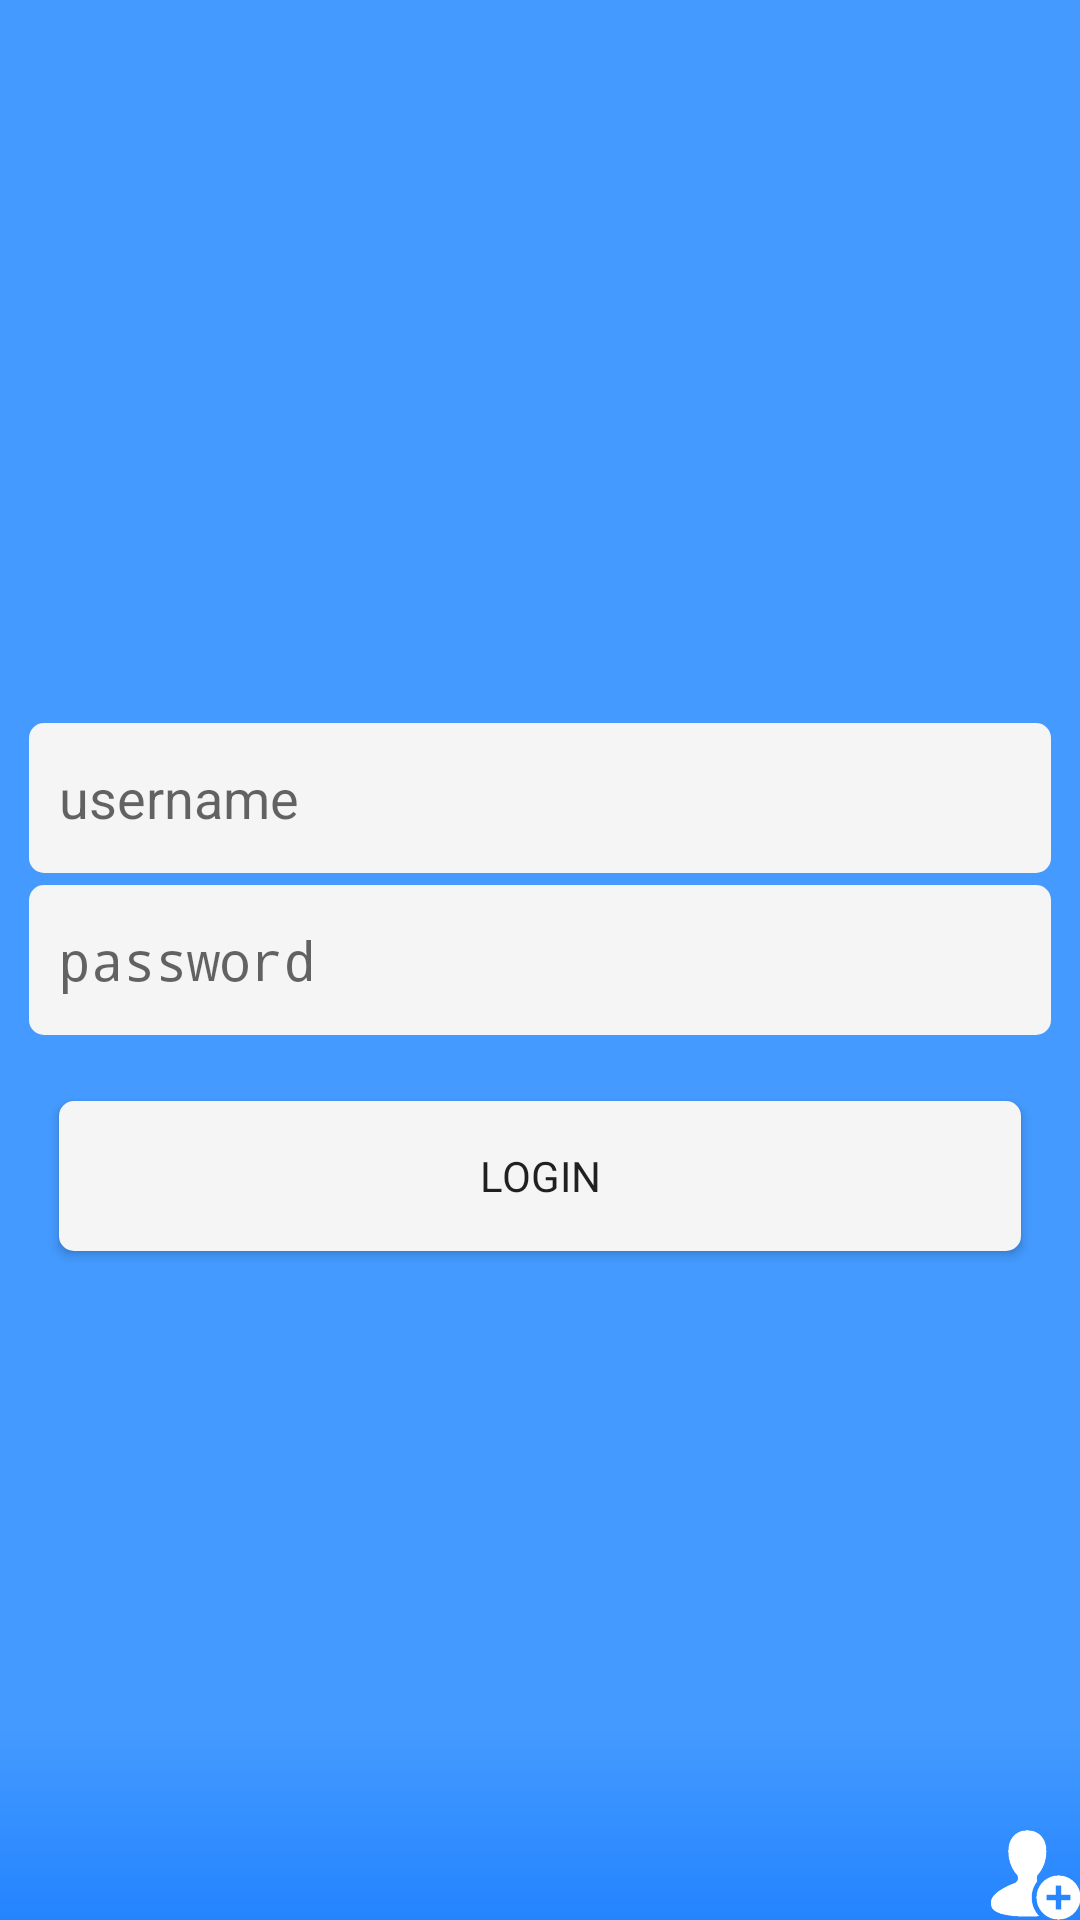

Where icons sit on this 1080px x 1920px app screen, as Rect(x1, y1, x2, y2):
add user: Rect(991, 1830, 1080, 1920)
